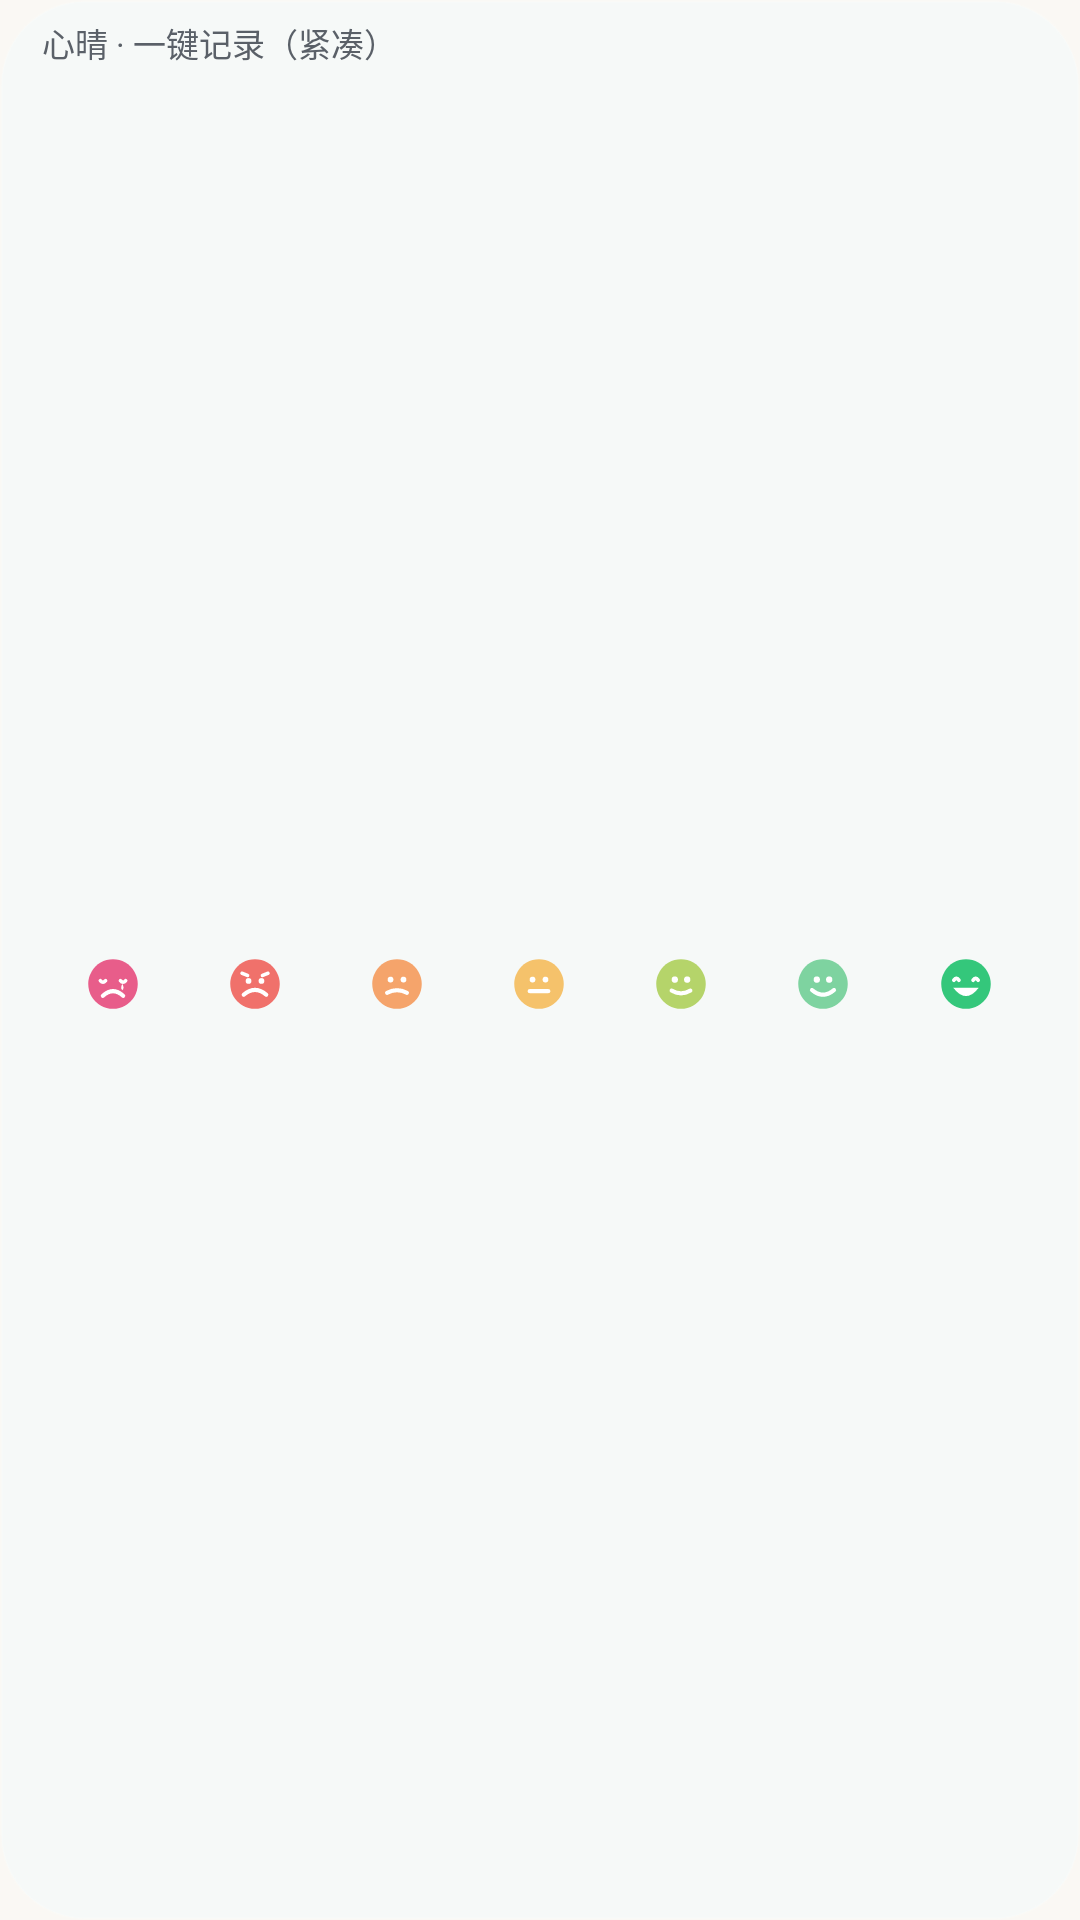

Screen size 1080 x 1920. Icon name, then its center in pixels as (x,y):
mood: (113,984), (255,984), (397,984), (539,984), (681,984), (823,984), (966,984)
